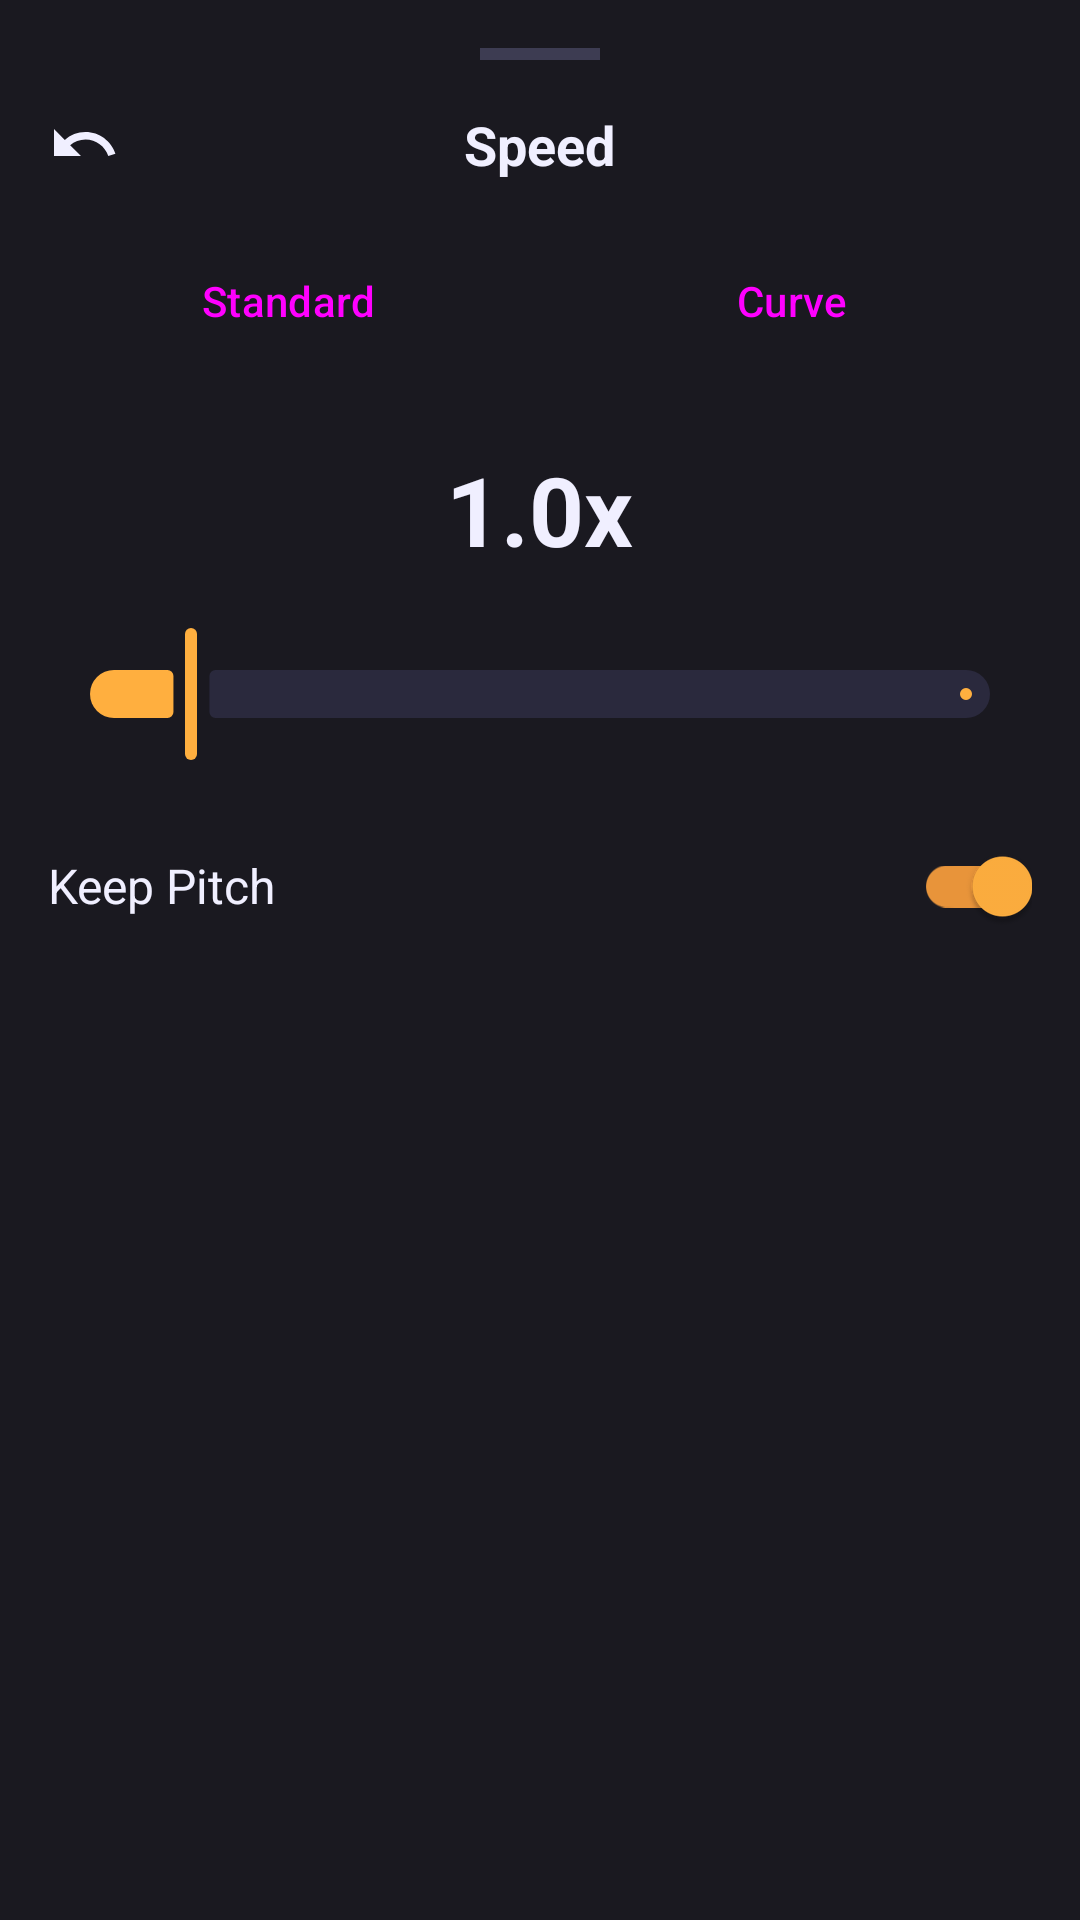

Icon click points for this 1080*1920 phone screenshot, format (x,y):
Reset: (85,142)
